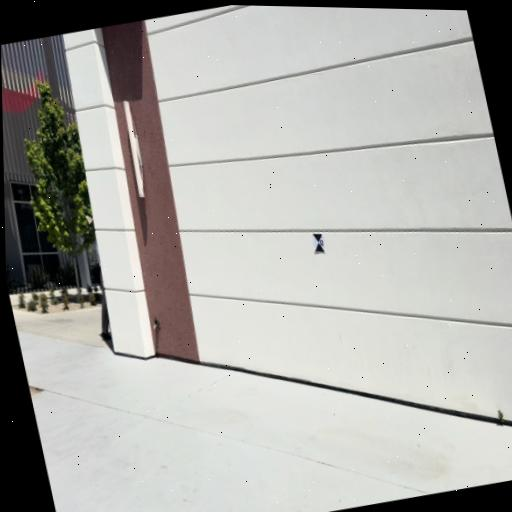target0: (313, 233, 325, 253)
